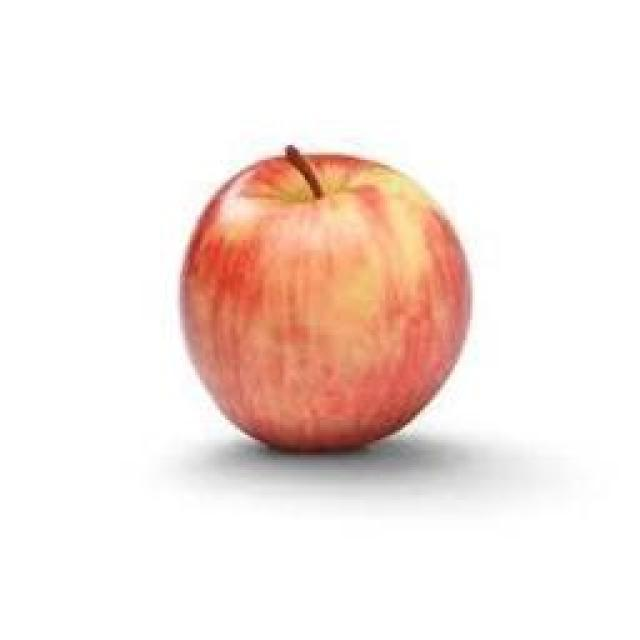Apple: (182, 146, 470, 451)
